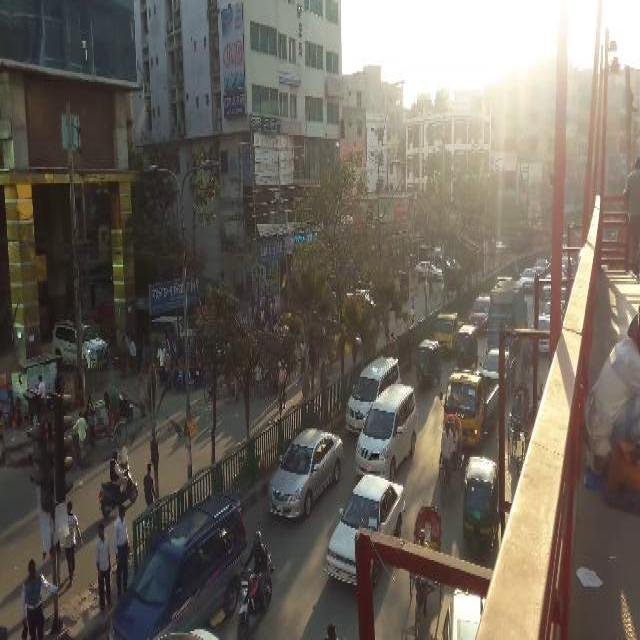car: (324, 470, 409, 598), (266, 416, 343, 521), (344, 352, 406, 425), (50, 316, 107, 370), (478, 343, 515, 381), (532, 313, 554, 354), (469, 288, 489, 332), (413, 260, 442, 284), (519, 266, 539, 292), (533, 256, 547, 277)
motorcycle: (400, 494, 444, 638), (235, 526, 276, 635), (460, 450, 497, 558), (72, 384, 128, 453), (97, 444, 140, 516), (436, 409, 464, 496), (505, 375, 528, 469), (413, 331, 442, 396), (453, 324, 476, 368), (170, 361, 194, 391)
truck: (104, 487, 242, 635), (356, 382, 421, 486), (442, 364, 508, 448), (484, 274, 525, 366), (148, 311, 194, 352), (433, 307, 465, 353)
